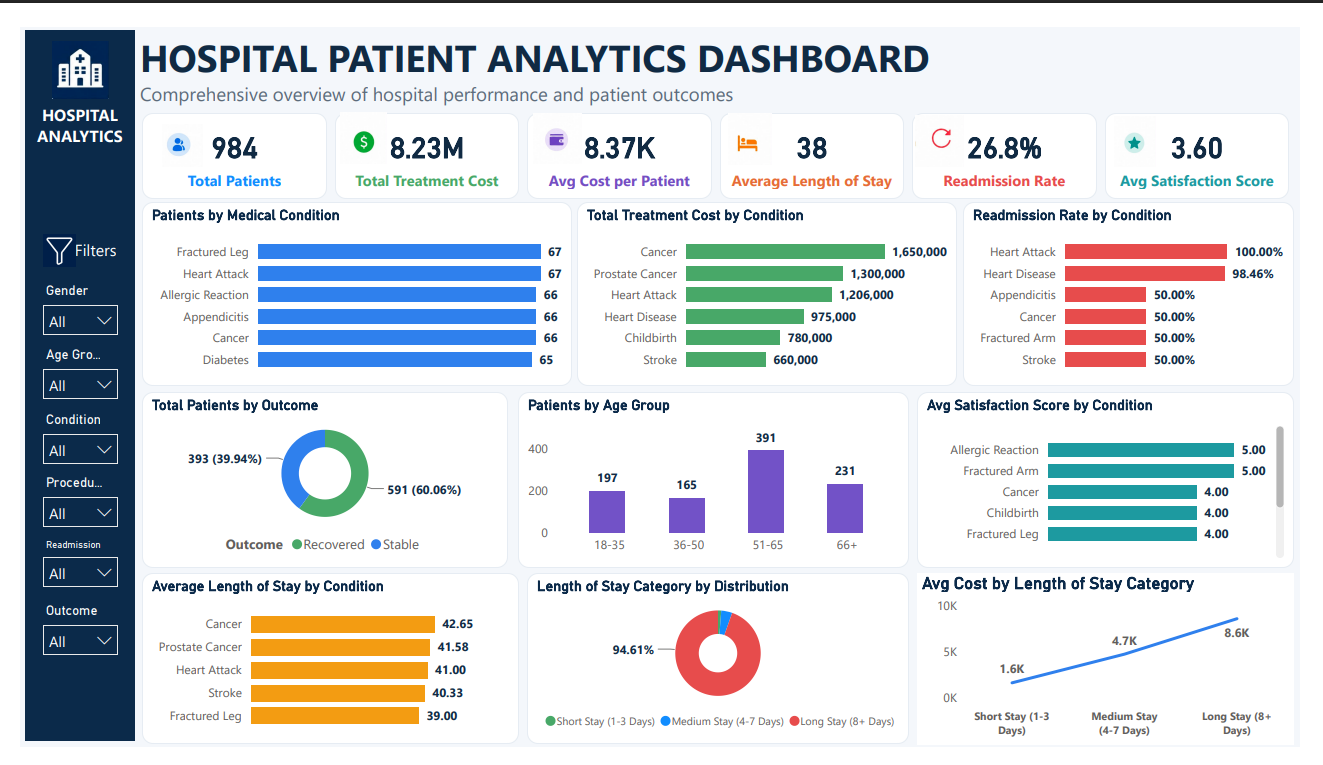

The dashboard page shown, as its layout file describes it:
{"tool":"powerbi","page":{"name":"Page 1","canvas":[1280,720],"ordinal":0},"visuals":[{"type":"shape","box":[4.8,3.2,109.8,711],"z":0},{"type":"textbox","box":[4.8,71.6,109.8,52.5],"z":1000},{"type":"textbox","box":[114.5,0,1165.9,85.9],"z":2000},{"type":"card","fields":{"Values":["hospital_data.Average Satisfaction Score"]},"box":[1084.8,85.9,184.5,85.9],"z":3000},{"type":"card","fields":{"Values":["hospital_data.Readmission Rate"]},"box":[892.3,85.9,184.5,85.9],"z":4000},{"type":"card","fields":{"Values":["hospital_data.Average Length of Stay"]},"box":[699.9,85.9,184.5,85.9],"z":5000},{"type":"card","fields":{"Values":["hospital_data.Average Cost per Patient"]},"box":[507.4,85.9,184.5,85.9],"z":6000},{"type":"card","fields":{"Values":["hospital_data.Total Treatment Cost"]},"box":[314.9,85.9,184.5,85.9],"z":7000},{"type":"card","fields":{"Values":["hospital_data.Total Patients"]},"box":[122.5,85.9,184.5,85.9],"z":8000},{"type":"barChart","title":"Patients by Medical Condition","fields":{"Category":["hospital_data.Condition"],"Y":["hospital_data.Total Patients"]},"box":[122.5,175,429.5,184.5],"z":9000},{"type":"clusteredBarChart","fields":{"Category":["hospital_data.Condition"],"Y":["hospital_data.Total Treatment Cost"]},"box":[556.7,175,380.2,184.5],"z":10000},{"type":"clusteredBarChart","fields":{"Category":["hospital_data.Condition"],"Y":["hospital_data.Readmission Rate"]},"box":[943.2,175,330.8,184.5],"z":11000},{"type":"donutChart","fields":{"Category":["hospital_data.Outcome"],"Y":["hospital_data.Total Patients"]},"box":[122.5,364.7,365.8,176.6],"z":12000},{"type":"clusteredColumnChart","title":"Patients by Age Group","fields":{"Category":["hospital_data.Age Group"],"Y":["hospital_data.Total Patients"]},"box":[497.9,364.7,391.3,176.6],"z":13000},{"type":"clusteredBarChart","fields":{"Category":["hospital_data.Condition"],"Y":["hospital_data.Average Satisfaction Score"]},"box":[897.1,364.7,377,176.6],"z":14000},{"type":"clusteredBarChart","fields":{"Category":["hospital_data.Condition"],"Y":["hospital_data.Average Length of Stay"]},"box":[122.5,545.6,377,171.8],"z":15000},{"type":"donutChart","title":"Length of Stay Category by Distribution","fields":{"Category":["hospital_data.Length of Stay Category"],"Y":["hospital_data.Total Patients"]},"box":[507.4,545.6,381.7,171.8],"z":16000},{"type":"lineChart","title":"Avg Cost by Length of Stay Category","fields":{"Category":["hospital_data.Length of Stay Category"],"Y":["hospital_data.Average Cost per Patient"]},"box":[897,546,377,172],"z":17000},{"type":"image","box":[19.1,14.3,82.7,57.3],"z":18000},{"type":"image","box":[133.6,97,57.3,42.9],"z":19000},{"type":"image","box":[314.9,85.9,57.3,50.9],"z":20000},{"type":"image","box":[509,85.9,57.3,50.9],"z":21000},{"type":"image","box":[701.5,87.5,57.3,50.9],"z":22000},{"type":"image","box":[890.7,89.1,46.1,50.9],"z":23000},{"type":"image","box":[1086.4,89.1,57.3,50.9],"z":24000},{"type":"slicer","fields":{"Values":["hospital_data.Gender"]},"box":[12.7,250.9,95.4,63.6],"z":25000},{"type":"slicer","fields":{"Values":["hospital_data.Age Group"]},"box":[12.7,314.5,95.4,63.6],"z":26000},{"type":"slicer","fields":{"Values":["hospital_data.Condition"]},"box":[12.7,379.7,95.4,63.6],"z":27000},{"type":"slicer","fields":{"Values":["hospital_data.Procedure"]},"box":[12.7,443.4,95.4,63.6],"z":28000},{"type":"slicer","fields":{"Values":["hospital_data.Readmission"]},"box":[12.7,507,95.4,63.6],"z":29000},{"type":"slicer","fields":{"Values":["hospital_data.Outcome"]},"box":[12.7,570.6,95.4,63.6],"z":30000},{"type":"textbox","box":[19.1,206.8,95.4,33.4],"z":31000},{"type":"image","box":[19.1,206.8,41.4,33.4],"z":32000}]}

Visuals, with their boxes in screenshot pixels (x1, y1, x2, y2), scaled from the page's 1280x720 canvas onto the 1323x765 screenshot:
shape: 5/3/118/759
textbox: 5/76/118/132
textbox: 118/0/1322/91
card - hospital_data.Average Satisfaction Score: 1121/91/1312/183
card - hospital_data.Readmission Rate: 922/91/1113/183
card - hospital_data.Average Length of Stay: 723/91/914/183
card - hospital_data.Average Cost per Patient: 524/91/715/183
card - hospital_data.Total Treatment Cost: 325/91/516/183
card - hospital_data.Total Patients: 127/91/317/183
"Patients by Medical Condition" barChart: 127/186/571/382
clusteredBarChart - hospital_data.Condition x hospital_data.Total Treatment Cost: 575/186/968/382
clusteredBarChart - hospital_data.Condition x hospital_data.Readmission Rate: 975/186/1317/382
donutChart - hospital_data.Outcome x hospital_data.Total Patients: 127/387/505/575
"Patients by Age Group" clusteredColumnChart: 515/387/919/575
clusteredBarChart - hospital_data.Condition x hospital_data.Average Satisfaction Score: 927/387/1317/575
clusteredBarChart - hospital_data.Condition x hospital_data.Average Length of Stay: 127/580/516/762
"Length of Stay Category by Distribution" donutChart: 524/580/919/762
"Avg Cost by Length of Stay Category" lineChart: 927/580/1317/763
image: 20/15/105/76
image: 138/103/197/149
image: 325/91/385/145
image: 526/91/585/145
image: 725/93/784/147
image: 921/95/968/149
image: 1123/95/1182/149
slicer - hospital_data.Gender: 13/267/112/334
slicer - hospital_data.Age Group: 13/334/112/402
slicer - hospital_data.Condition: 13/403/112/471
slicer - hospital_data.Procedure: 13/471/112/539
slicer - hospital_data.Readmission: 13/539/112/606
slicer - hospital_data.Outcome: 13/606/112/674
textbox: 20/220/118/255
image: 20/220/63/255
